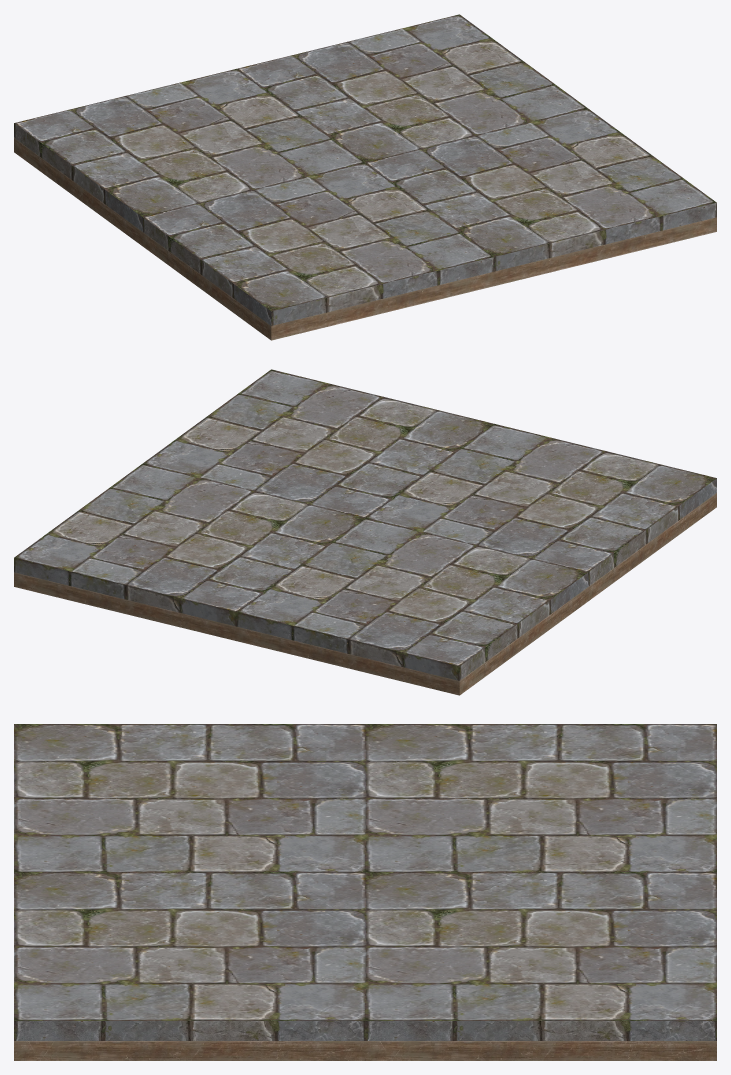
The picture shows the model from 3 angles, top to bottom: view 1: azimuth 30°, elevation 25°; view 2: azimuth 150°, elevation 25°; view 3: azimuth 270°, elevation 25°; orthographic projection. The views are drawn at different scales.
Parts seen in each view (by area): view 1: SM_Greathall_Floor_8x8_01_LOD0; view 2: SM_Greathall_Floor_8x8_01_LOD0; view 3: SM_Greathall_Floor_8x8_01_LOD0.
Part boxes in pixels (bbox=[...]): SM_Greathall_Floor_8x8_01_LOD0: bbox=[14, 14, 716, 340]; SM_Greathall_Floor_8x8_01_LOD0: bbox=[14, 369, 716, 695]; SM_Greathall_Floor_8x8_01_LOD0: bbox=[14, 724, 716, 1060].
Size of the model in its own units: 8 by 0.5 by 8.
Materials: 2 (2 with a texture image).
